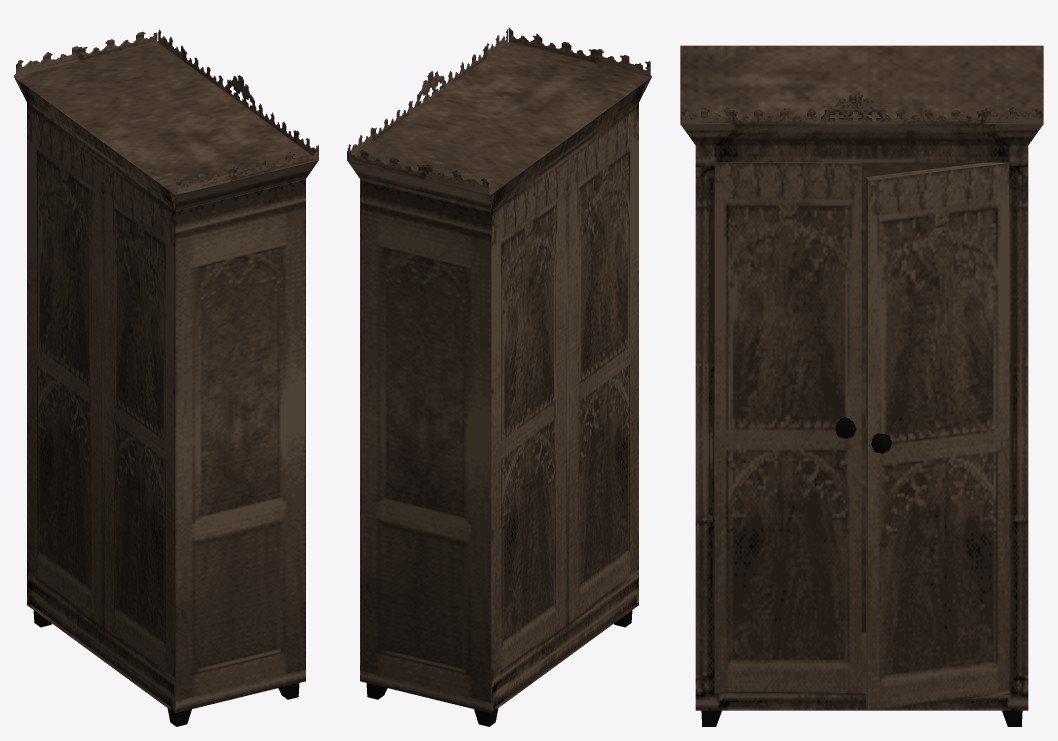
Rendered from Modelo armario.fbx.
The picture shows the model from 3 angles, left to right: view 1: azimuth 30°, elevation 25°; view 2: azimuth 150°, elevation 25°; view 3: azimuth 270°, elevation 25°; orthographic projection. The views are drawn at different scales.
Parts seen in each view (by area): view 1: armario, patas; view 2: armario, patas; view 3: puerta izq, puerta der, armario, patas.
Part boxes in pixels (x1,y1,x2,y2): armario: (14,29,318,713); patas: (33,610,299,726); armario: (347,27,651,713); patas: (366,610,632,726); puerta izq: (714,162,861,693); puerta der: (866,162,1009,710); armario: (680,45,1043,710); patas: (701,710,1022,726).
Size of the model in its own units: 148 by 94.94 by 288.
Materials: 2 (1 with a texture image).
